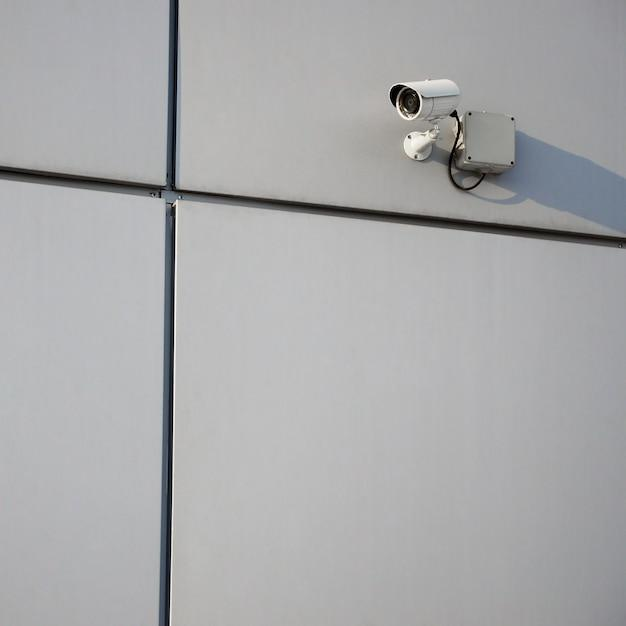camera: (340, 48, 495, 180)
